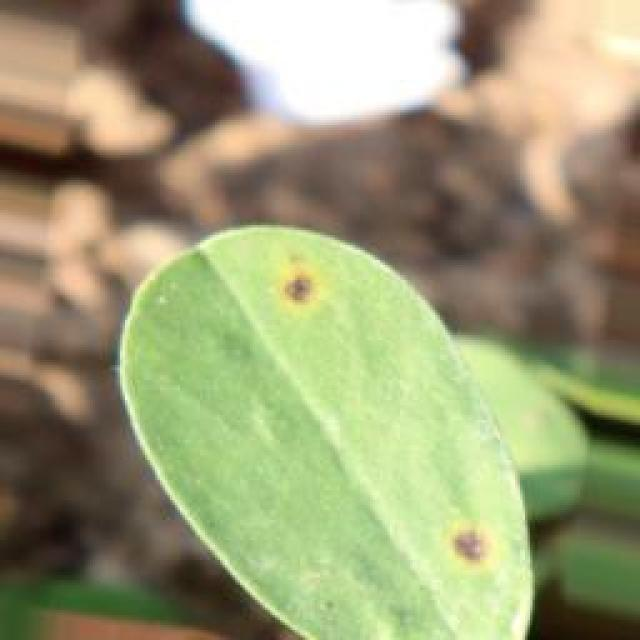Sigatoka: (248, 257, 354, 362), (431, 488, 528, 596)
